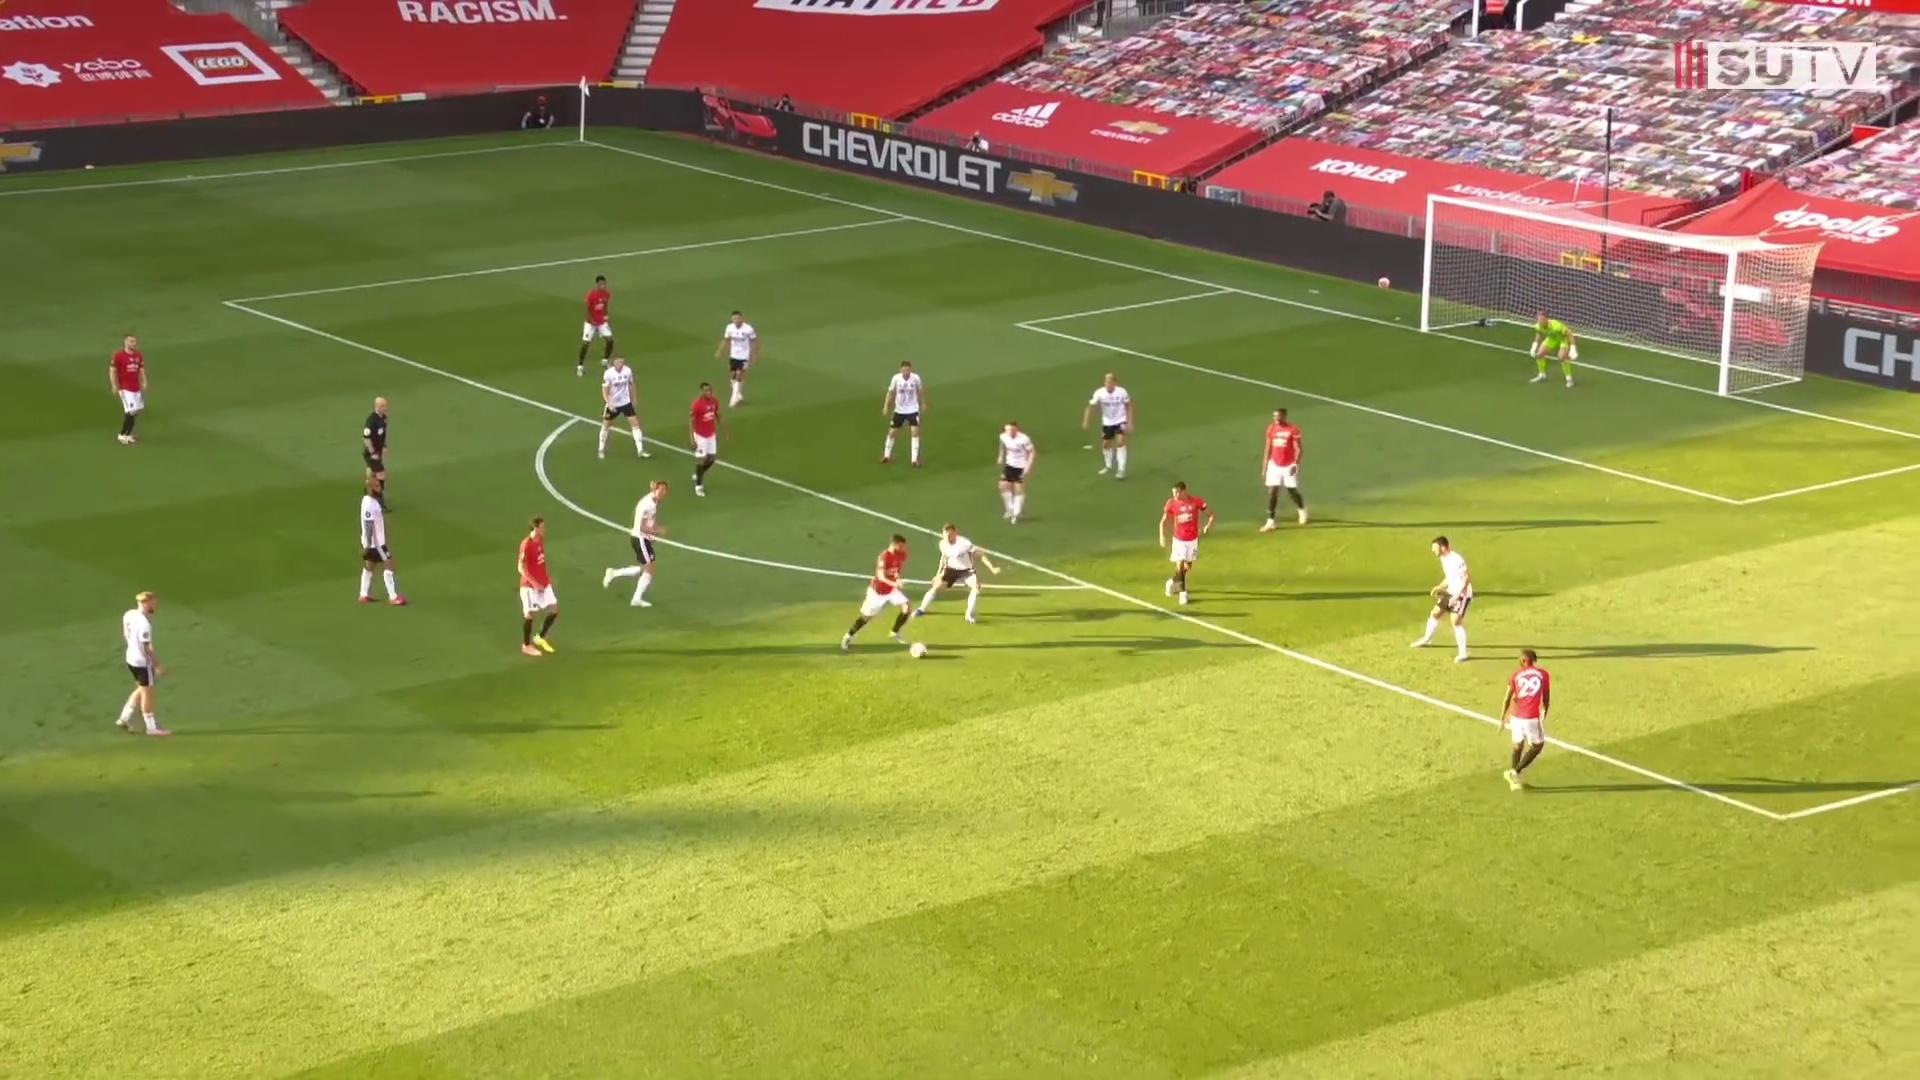ball: (907, 642, 930, 662), (1377, 276, 1391, 290)
goalkeeper: (1526, 305, 1579, 391)
player: (909, 520, 1003, 625), (110, 588, 173, 743), (603, 479, 674, 614), (1407, 535, 1480, 665), (1496, 647, 1557, 797), (838, 532, 910, 657), (518, 515, 569, 664), (1162, 481, 1218, 612), (596, 348, 658, 464), (359, 480, 413, 613), (1258, 406, 1312, 533), (1086, 367, 1141, 483), (875, 357, 930, 469), (106, 329, 154, 448), (575, 273, 626, 378), (685, 380, 729, 500), (717, 307, 762, 409), (995, 421, 1037, 526)
referee: (359, 396, 395, 515)
